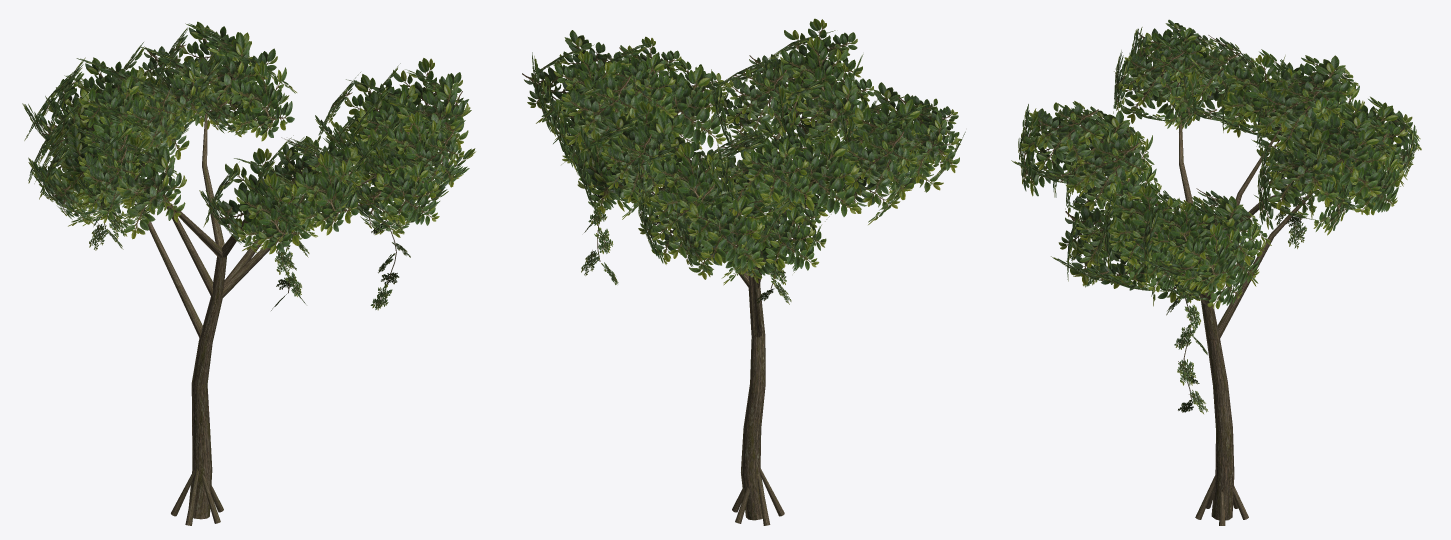
File: background_tree_03.glb
3 views of the same model, side by side, from view 1: azimuth 30°, elevation 25°; view 2: azimuth 150°, elevation 25°; view 3: azimuth 270°, elevation 25° (orthographic).
Visible parts, largest first — view 1: background_tree_03; view 2: background_tree_03; view 3: background_tree_03.
Boxes of the visible parts, x1=… form: background_tree_03: x1=22, y1=21, x2=475, y2=525; background_tree_03: x1=522, y1=18, x2=965, y2=525; background_tree_03: x1=1011, y1=19, x2=1421, y2=525.
Bounding box in the file's own units: 10.7 × 10.05 × 9.17.
Materials: 2 (2 with a texture image).
